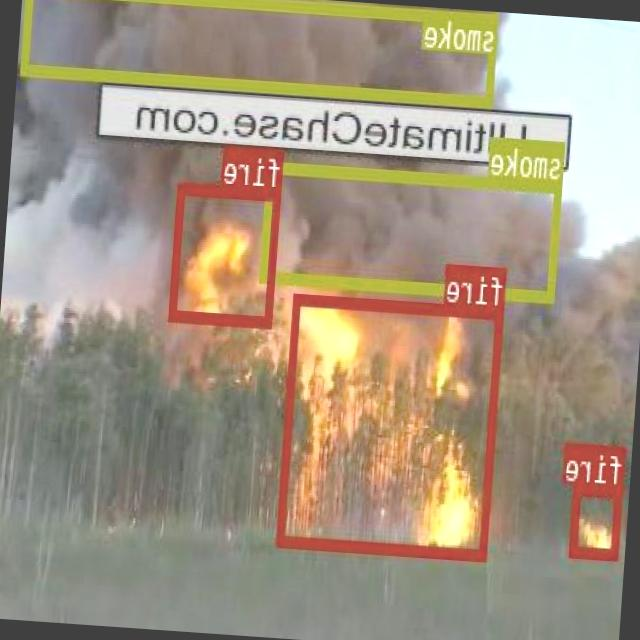fire: (278, 292, 505, 558), (171, 182, 281, 324), (571, 482, 623, 558)
smoke: (21, 0, 499, 106), (261, 160, 564, 299)
